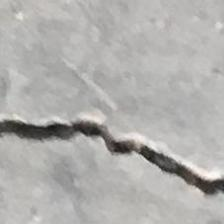Crack: (0, 110, 224, 202)
